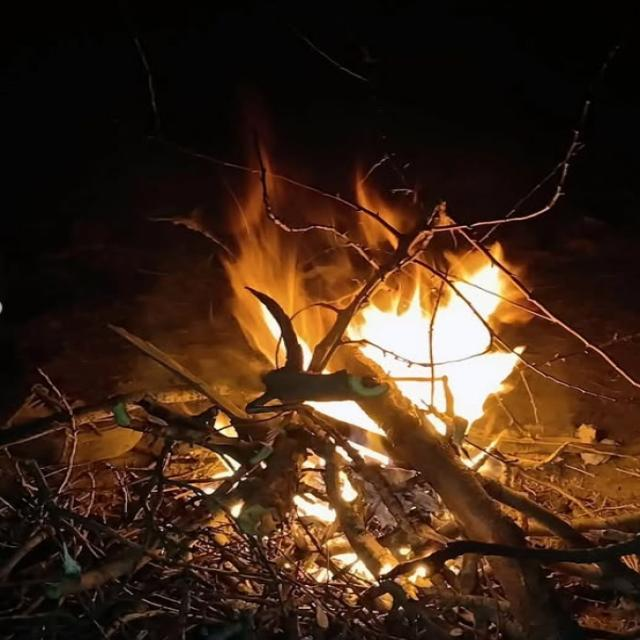fire: (221, 100, 535, 435), (301, 452, 355, 502), (293, 493, 337, 526)
